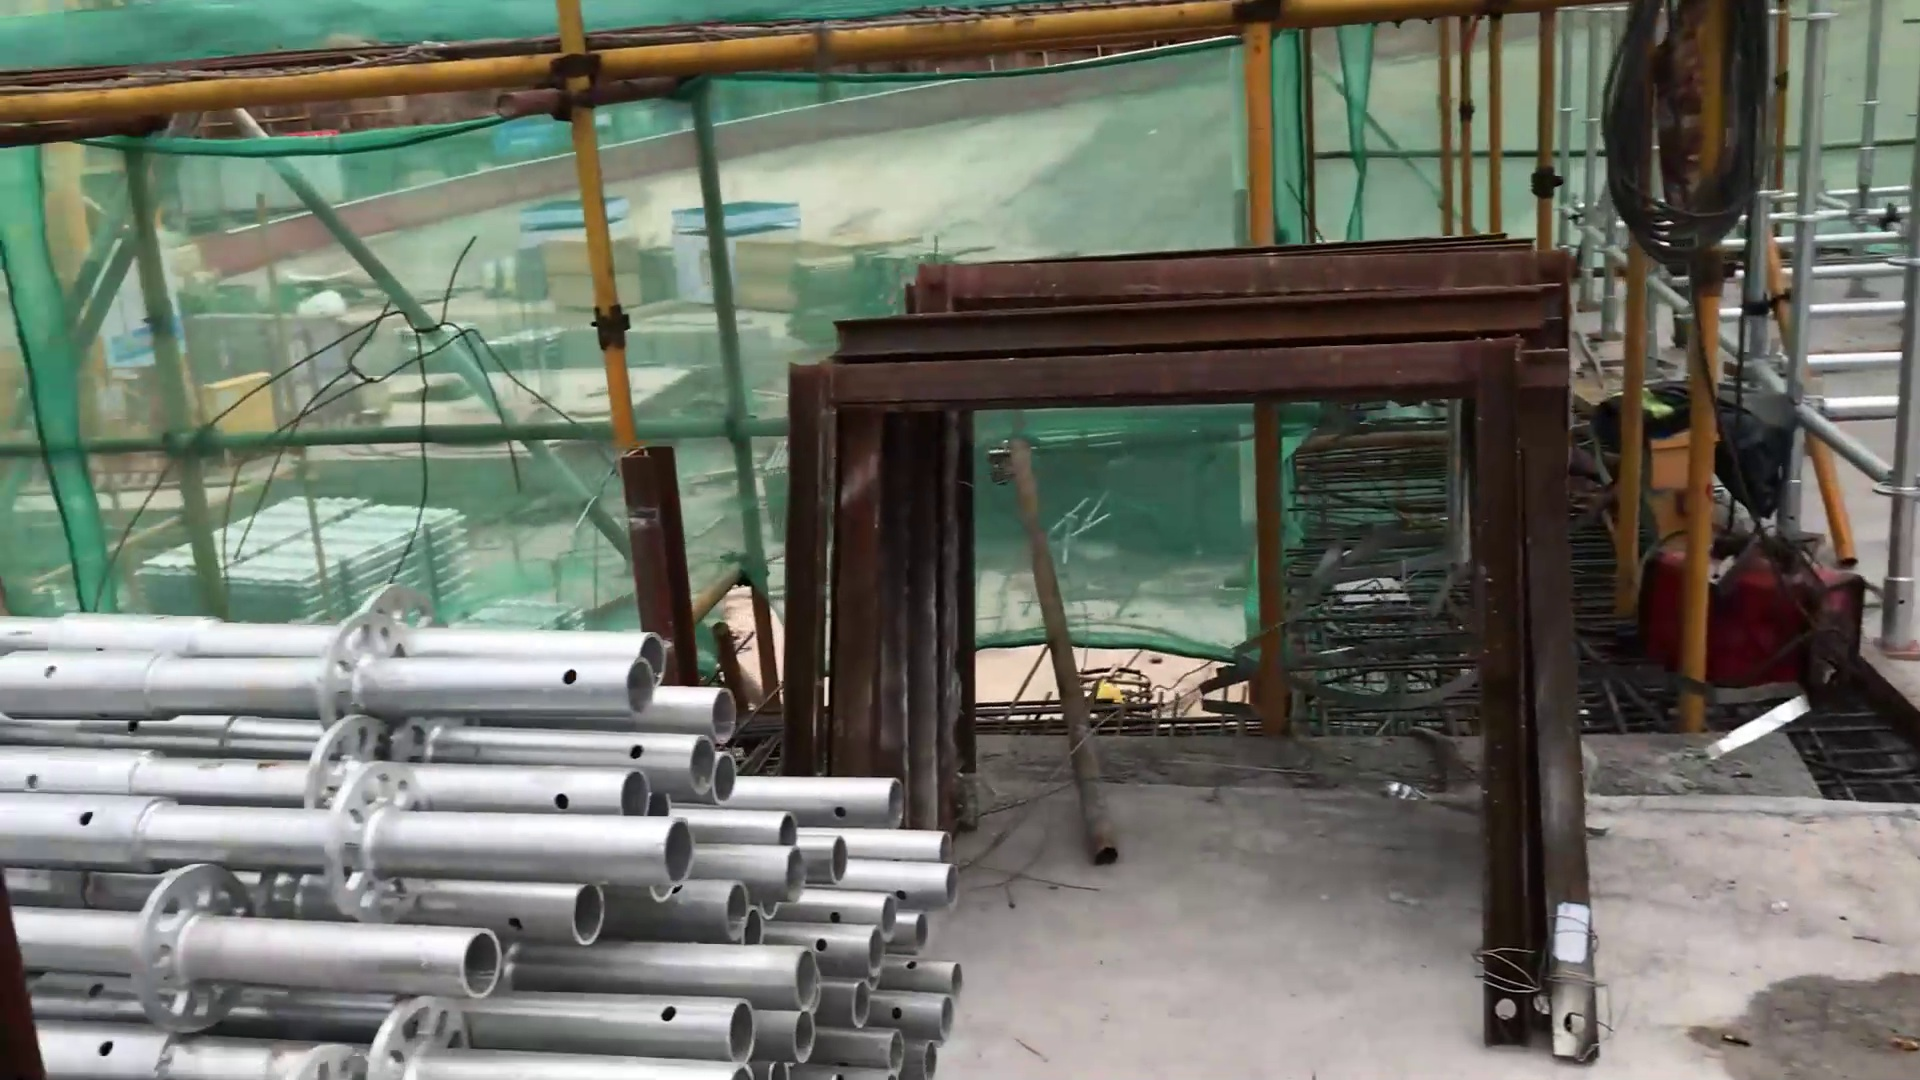ebox: (198, 367, 284, 454)
scaffold: (1, 607, 988, 1063), (142, 500, 477, 615)
